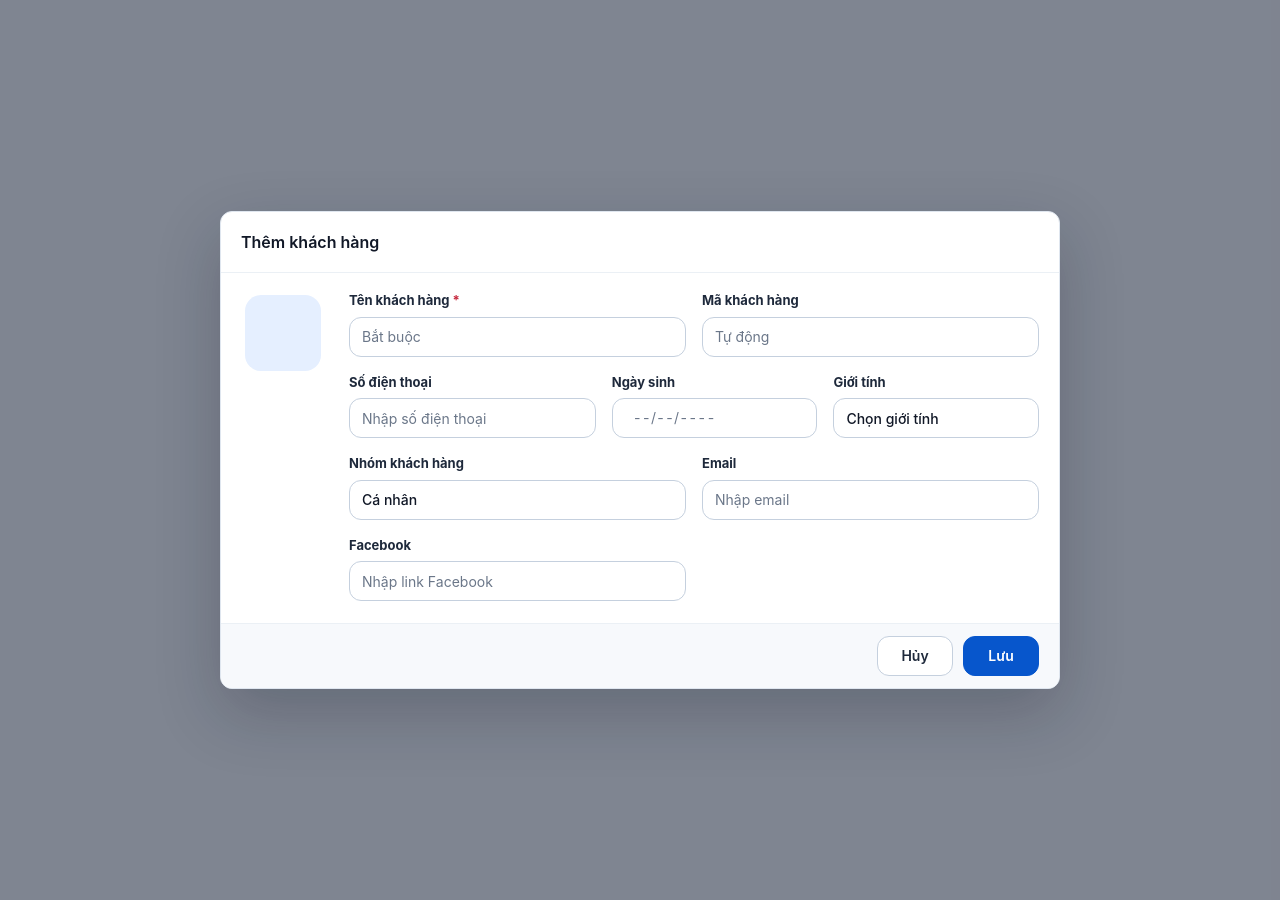
Test case: CustomerCreateDialog › renders required customer fields and validates name
Check: the heading "Thêm khách hàng" is shown, box [241,232,379,252]
Check: the field with placeholder "Bắt buộc" is shown, box [349,316,686,356]
Click the button "Lưu": (1001, 656) [963,636,1039,676]
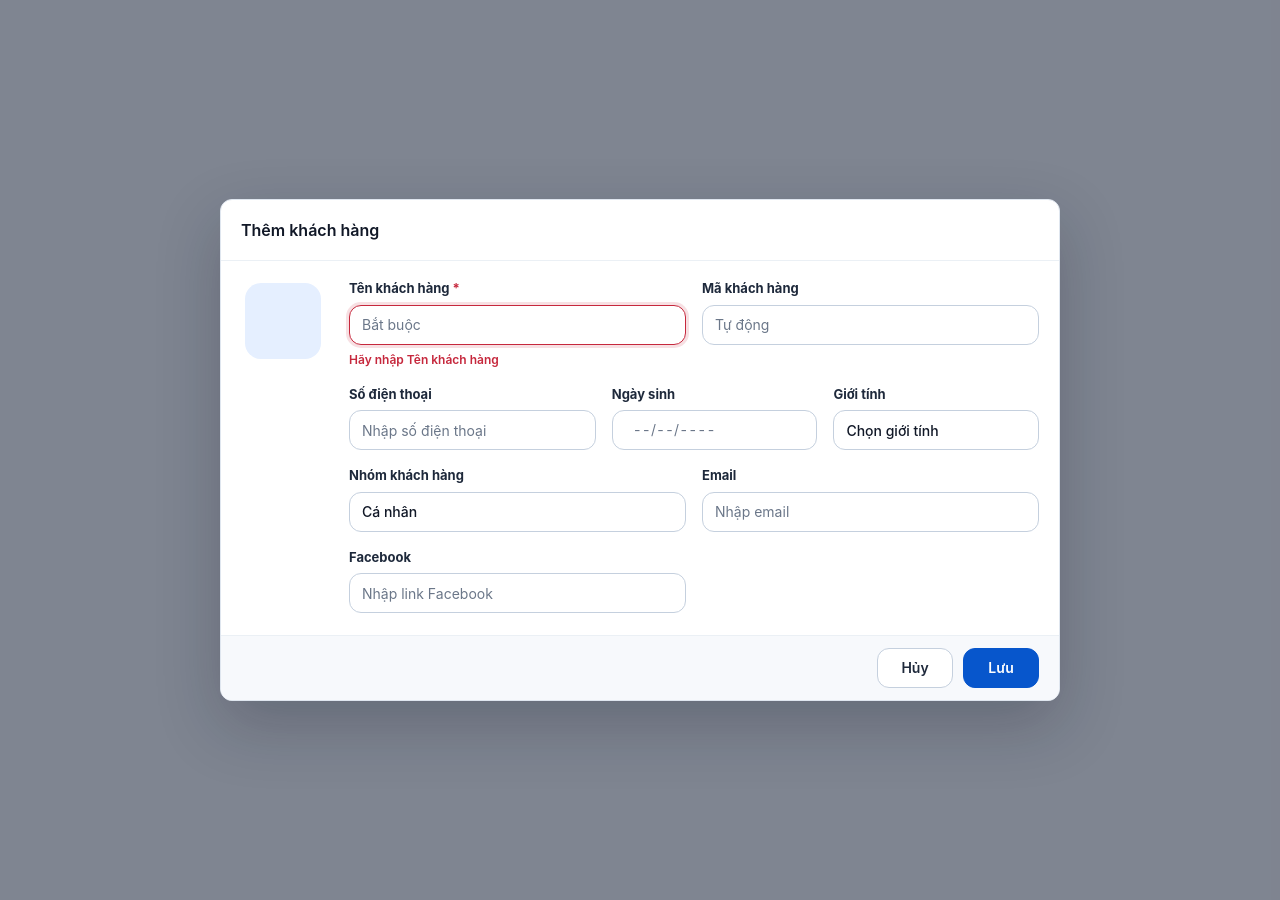
Check: the text "Hãy nhập Tên khách hàng" is shown, box [349,352,499,366]
